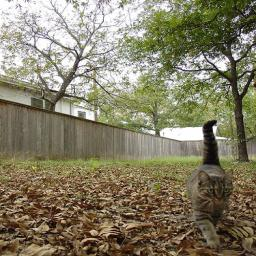catnose: (214, 194, 223, 200)
